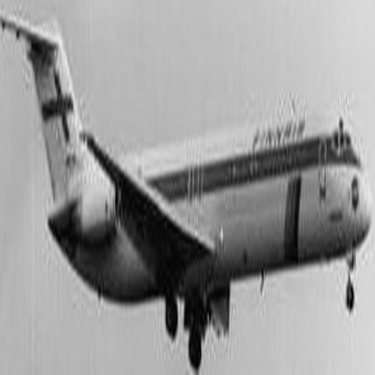airplane: (5, 4, 369, 373)
